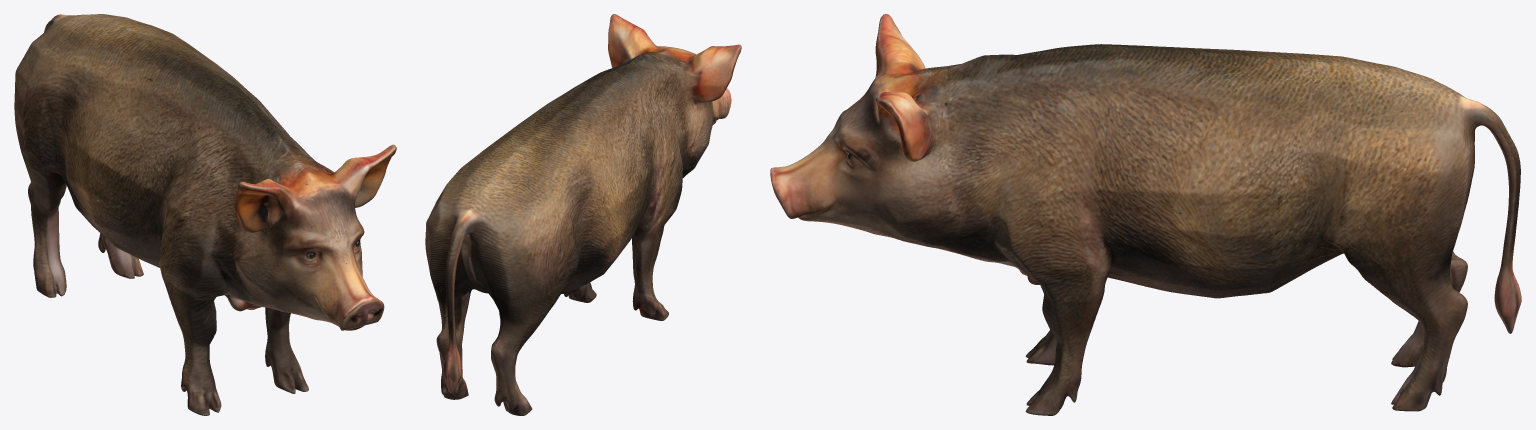
File: wild_pigboar_meshy.glb
The picture shows the model from 3 angles, left to right: view 1: azimuth 30°, elevation 25°; view 2: azimuth 150°, elevation 25°; view 3: azimuth 270°, elevation 25°; orthographic projection. The views are drawn at different scales.
Visible parts, largest first — view 1: Mesh1_Mesh1.019; view 2: Mesh1_Mesh1.019; view 3: Mesh1_Mesh1.019.
Part boxes in pixels (x1,y1,x2,y2): Mesh1_Mesh1.019: [14, 14, 396, 415]; Mesh1_Mesh1.019: [425, 14, 741, 415]; Mesh1_Mesh1.019: [770, 14, 1521, 415].
Size of the model in its own units: 0.5926 by 0.9956 by 2.
Materials: 1 (1 with a texture image).
